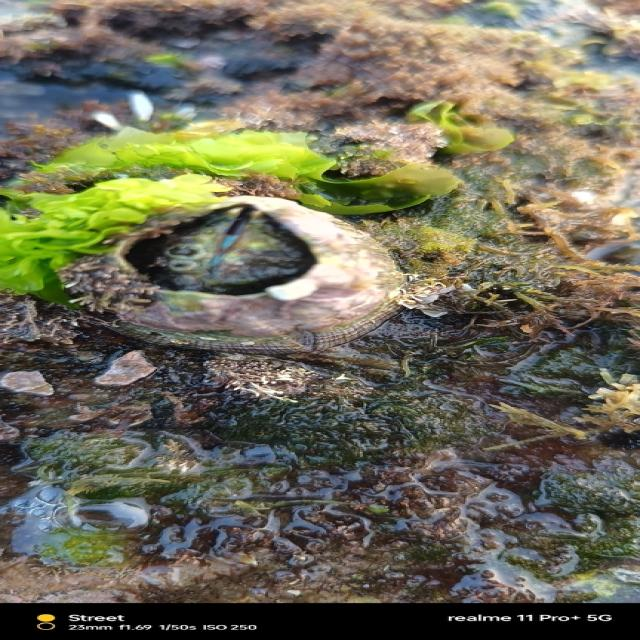barnacles: (42, 192, 396, 360)
